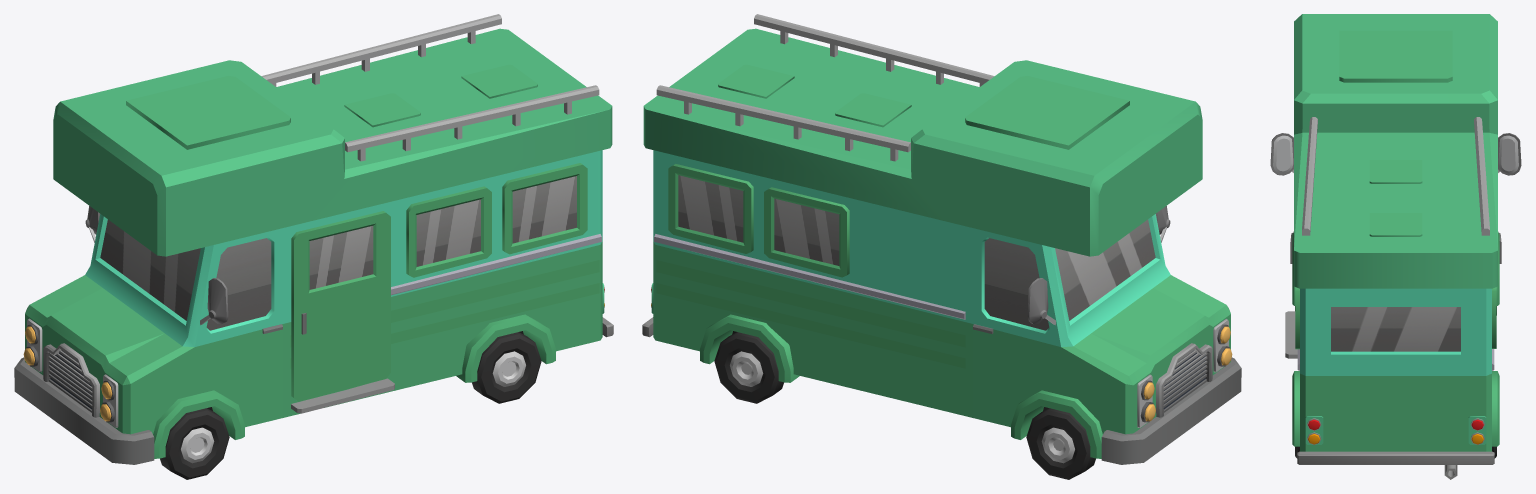
The model's file is RVCar_K.gltf.
3 views of the same model, side by side, from view 1: azimuth 30°, elevation 25°; view 2: azimuth 150°, elevation 25°; view 3: azimuth 270°, elevation 25° (orthographic). The views are drawn at different scales.
Visible parts, largest first — view 1: RVCar_K, RL, FL; view 2: RVCar_K, RR, FR; view 3: RVCar_K.
Part boxes in pixels (x1,y1,x2,y2): RVCar_K: (14,14,613,464); RL: (472,332,541,403); FL: (160,408,229,479); RVCar_K: (642,14,1241,464); RR: (714,332,783,403); FR: (1026,408,1095,479); RVCar_K: (1270,14,1521,479).
Size of the model in its own units: 4.14 by 2.46 by 1.94.
4 materials, 4 textured.
